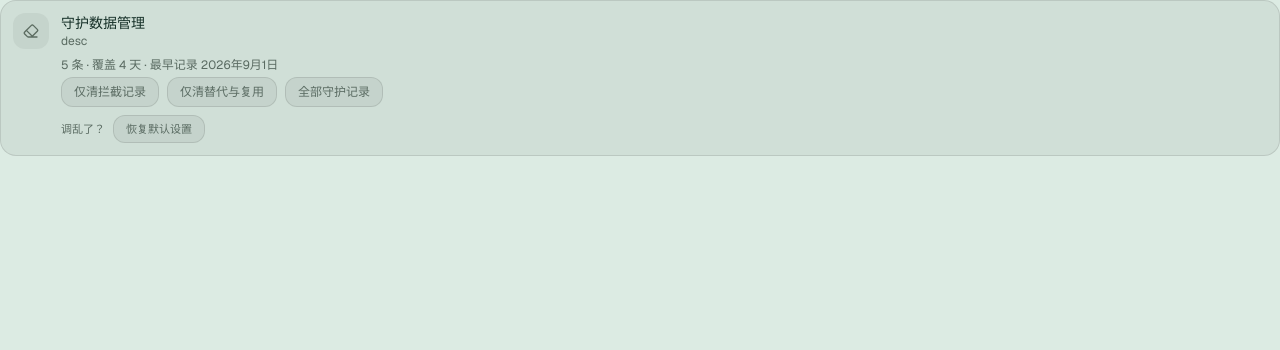
Test: GuardDataManagementSetting › clear-all flow: confirm panel shows counts + private impact, POSTs lane, then celebrates once
Expected: the text with test id "guard-data-stats" shows "5 条", [61, 57, 278, 73]
Click the button with test id "guard-data-clear-all" at (334, 92), box [285, 77, 383, 107]
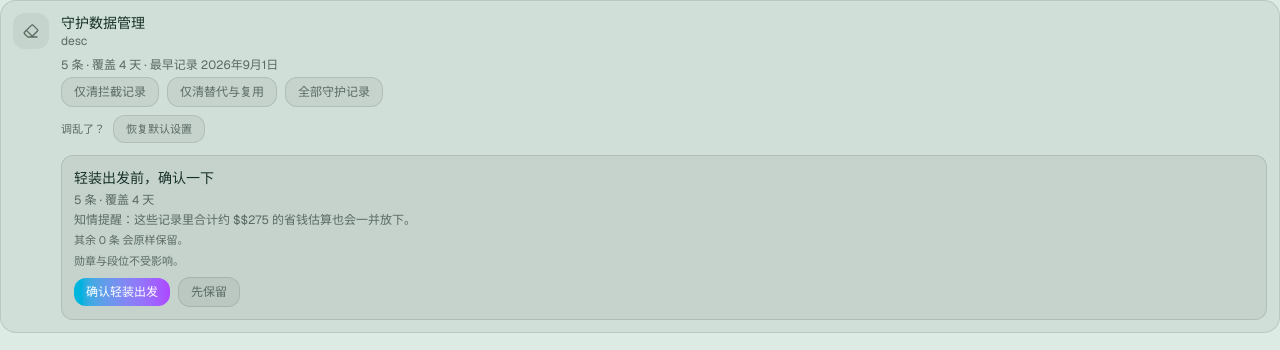
Result: the element with test id "guard-data-confirm" shows "5 条" at [74, 192, 154, 208]
Result: the element with test id "guard-data-confirm" shows "覆盖 4 天" at [74, 192, 154, 208]
Result: the text with test id "guard-data-confirm-impact" shows "$275" at [74, 212, 416, 228]
Click the button with test id "guard-data-confirm-go" at (122, 292), box [74, 278, 170, 306]
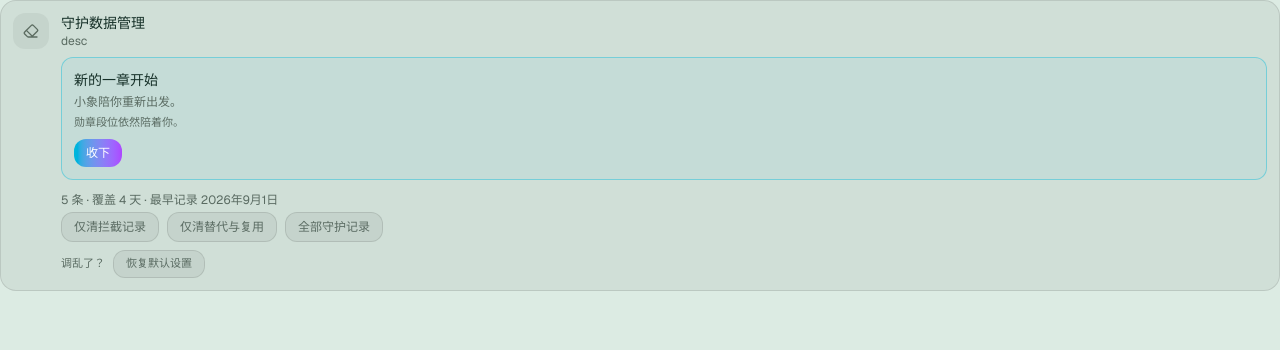
Result: the element with test id "guard-data-celebration" shows "新的一章开始" at [74, 71, 158, 89]
Click the button with test id "guard-data-celebration-dismiss" at (98, 152), box [74, 138, 122, 166]
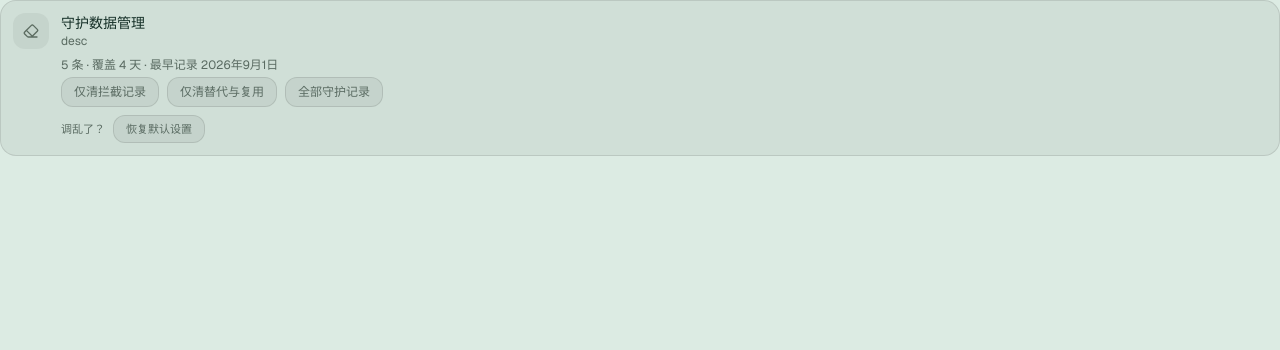
Result: the element with test id "guard-data-celebration" is gone
